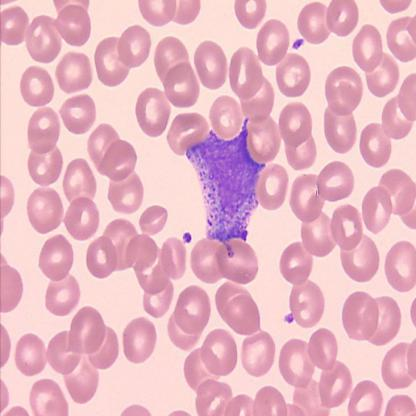Myelocyte: (187, 122, 264, 238)
